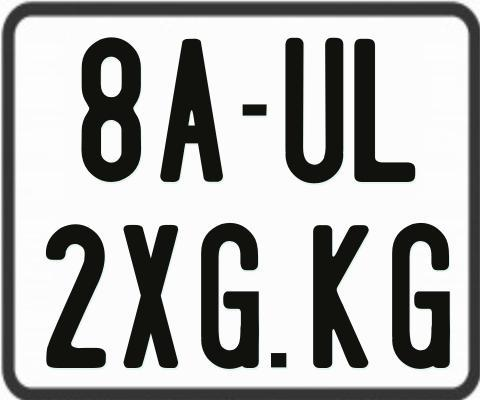2: (45, 223, 107, 367)
8: (81, 35, 142, 186)
A: (158, 36, 221, 184)
G: (200, 223, 264, 371), (389, 221, 447, 367)
K: (310, 223, 371, 372)
L: (353, 37, 414, 185)
U: (282, 37, 345, 182)
X: (121, 224, 179, 367)
